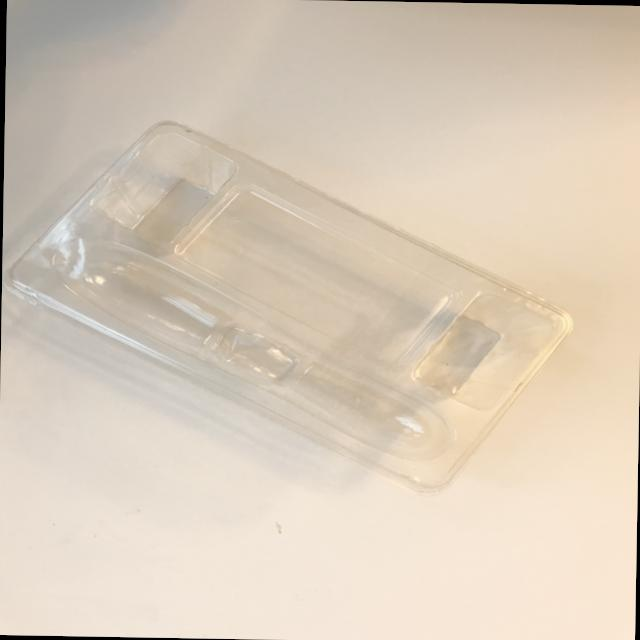Plastic: (0, 118, 615, 515)
